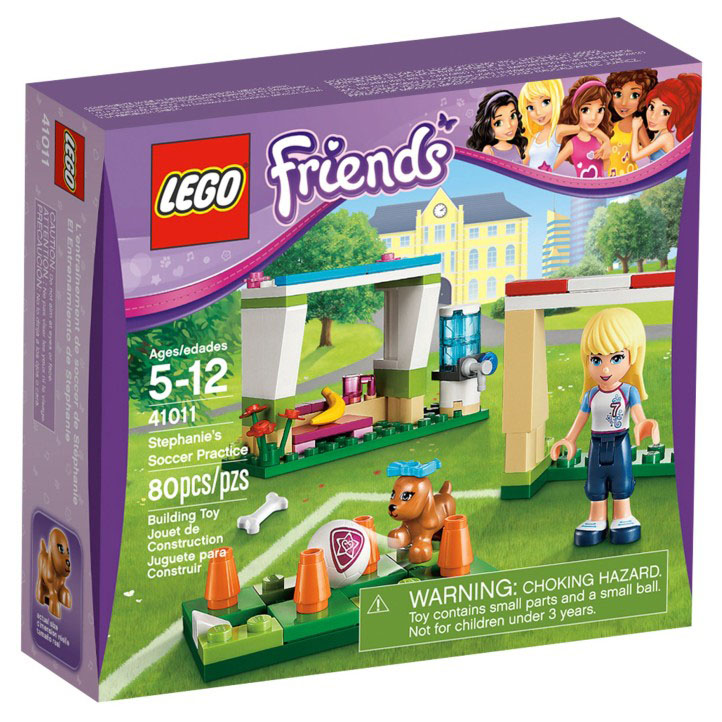LEGO: (143, 129, 262, 258), (47, 113, 90, 208)
